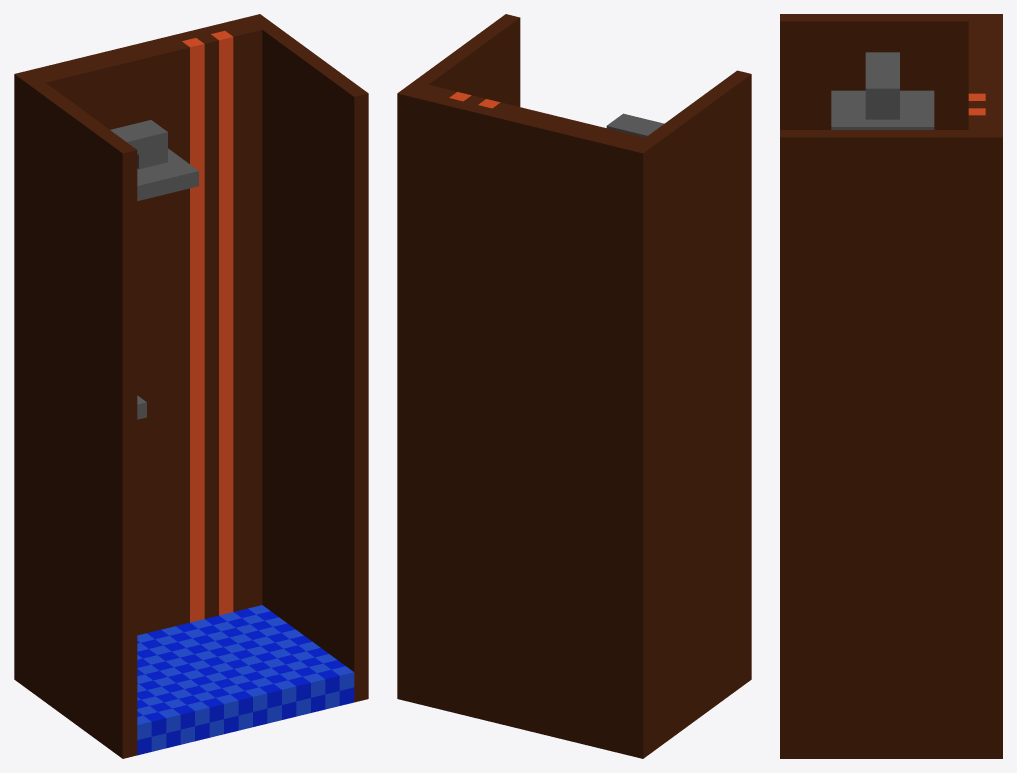
The model's file is teenshower new.fbx.
3 renders of one model, left to right at view 1: azimuth 30°, elevation 25°; view 2: azimuth 150°, elevation 25°; view 3: azimuth 270°, elevation 25°, orthographic. The views are drawn at different scales.
Visible parts, largest first — view 1: Object001, showerhead; view 2: Object001, showerhead; view 3: Object001, showerhead.
Boxes of the visible parts, left/top/right/bottom form: Object001: left=14, top=14, right=368, bottom=758; showerhead: left=110, top=120, right=198, bottom=200; Object001: left=397, top=14, right=751, bottom=758; showerhead: left=606, top=113, right=663, bottom=137; Object001: left=780, top=14, right=1002, bottom=758; showerhead: left=831, top=52, right=934, bottom=129.
Bounding box in the file's own units: 1.7 × 4 × 1.3.
